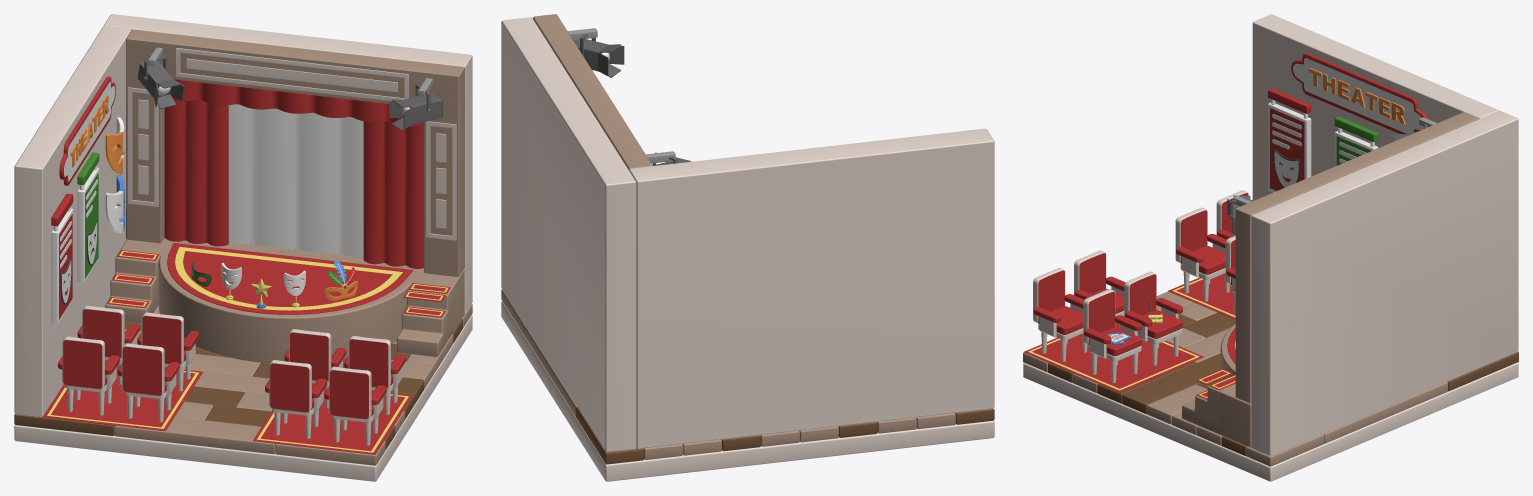
File: Theatre_32.glb
The picture shows the model from 3 angles, left to right: view 1: azimuth 30°, elevation 25°; view 2: azimuth 150°, elevation 25°; view 3: azimuth 270°, elevation 25°; orthographic projection. The views are drawn at different scales.
Parts seen in each view (by area): view 1: Room_12_Theatre_Curtain_Stand_1, Room_12_Theatre_Stand_1, Room_12_Theatre_Wall_2, Room_12_Theatre_Stage_1, Room_12_Theatre_Floor_2, Room_12_Theatre_Carpet_1, Room_12_Theatre_Floor_1, Room_12_Theatre_Wall_1, Room_12_Theatre_Carpet_8, Room_12_Theatre_Carpet_9, Room_12_Theatre_Chair_7, Room_12_Theatre_Chair_2 (+14 smaller); view 2: Room_12_Theatre_Wall_2, Room_12_Theatre_Wall_1, Room_12_Theatre_Floor_1, Room_12_Theatre_Floor_2, Room_12_Theatre_Stand_1, Room_12_Theatre_Spotlight_2; view 3: Room_12_Theatre_Wall_1, Room_12_Theatre_Wall_2, Room_12_Theatre_Floor_2, Room_12_Theatre_Floor_1, Room_12_Theatre_Stand_1, Room_12_Theater_Sign_1, Room_12_Theatre_Carpet_8, Room_12_Theatre_Poster_2, Room_12_Theatre_Stage_1, Room_12_Theatre_Chair_4, Room_12_Theatre_Chair_2, Room_12_Theatre_Chair_7 (+6 smaller).
Part boxes in pixels (bbox=[...]): Room_12_Theatre_Curtain_Stand_1: bbox=[164, 79, 423, 268]; Room_12_Theatre_Stand_1: bbox=[126, 29, 464, 276]; Room_12_Theatre_Wall_2: bbox=[14, 26, 131, 416]; Room_12_Theatre_Stage_1: bbox=[105, 238, 464, 363]; Room_12_Theatre_Floor_2: bbox=[14, 304, 472, 465]; Room_12_Theatre_Carpet_1: bbox=[167, 243, 413, 314]; Room_12_Theatre_Floor_1: bbox=[14, 315, 472, 481]; Room_12_Theatre_Wall_1: bbox=[103, 14, 472, 313]; Room_12_Theatre_Carpet_8: bbox=[253, 384, 412, 454]; Room_12_Theatre_Carpet_9: bbox=[43, 360, 202, 430]; Room_12_Theatre_Chair_7: bbox=[117, 343, 179, 422]; Room_12_Theatre_Chair_2: bbox=[324, 366, 386, 445]; Room_12_Theatre_Wall_2: bbox=[629, 128, 994, 448]; Room_12_Theatre_Wall_1: bbox=[501, 17, 636, 452]; Room_12_Theatre_Floor_1: bbox=[501, 301, 994, 481]; Room_12_Theatre_Floor_2: bbox=[501, 289, 994, 464]; Room_12_Theatre_Stand_1: bbox=[533, 14, 652, 169]; Room_12_Theatre_Spotlight_2: bbox=[573, 34, 624, 77]; Room_12_Theatre_Wall_1: bbox=[1251, 110, 1518, 456]; Room_12_Theatre_Wall_2: bbox=[1252, 14, 1498, 200]; Room_12_Theatre_Floor_2: bbox=[1023, 291, 1518, 466]; Room_12_Theatre_Floor_1: bbox=[1023, 362, 1518, 481]; Room_12_Theatre_Stand_1: bbox=[1235, 112, 1478, 403]; Room_12_Theater_Sign_1: bbox=[1291, 53, 1427, 133]; Room_12_Theatre_Carpet_8: bbox=[1024, 323, 1203, 392]; Room_12_Theatre_Poster_2: bbox=[1268, 88, 1311, 192]; Room_12_Theatre_Stage_1: bbox=[1182, 324, 1251, 447]; Room_12_Theatre_Chair_4: bbox=[1083, 289, 1141, 383]; Room_12_Theatre_Chair_2: bbox=[1033, 267, 1087, 361]; Room_12_Theatre_Chair_7: bbox=[1175, 207, 1229, 301].
Bounding box in the file's own units: 7.03 × 4.06 × 7.03.
Materials: 1 (1 with a texture image).
